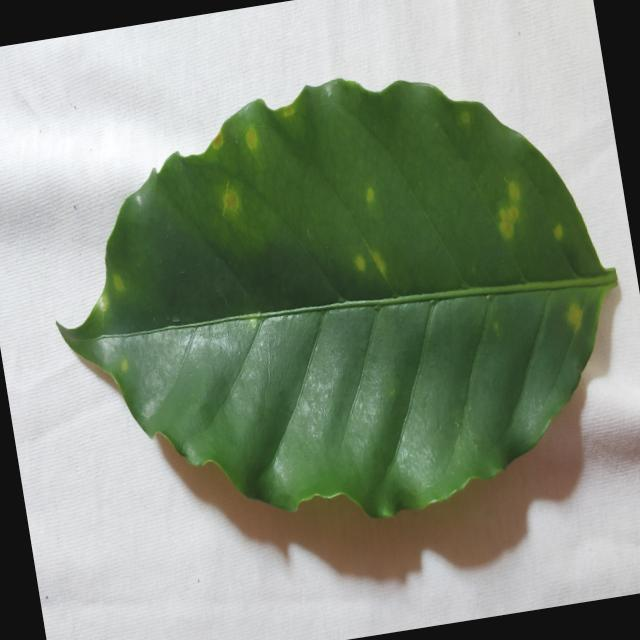KaratDaunKopi: (499, 182, 520, 238), (223, 184, 239, 212), (568, 303, 582, 331), (371, 251, 386, 276), (245, 125, 258, 149), (354, 254, 366, 272), (113, 274, 125, 291), (97, 294, 108, 312), (554, 224, 563, 241), (367, 187, 374, 203), (461, 112, 470, 124), (121, 359, 128, 371)
